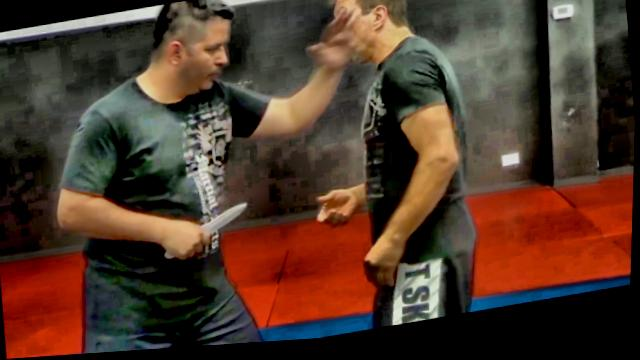knife: (159, 202, 255, 266)
